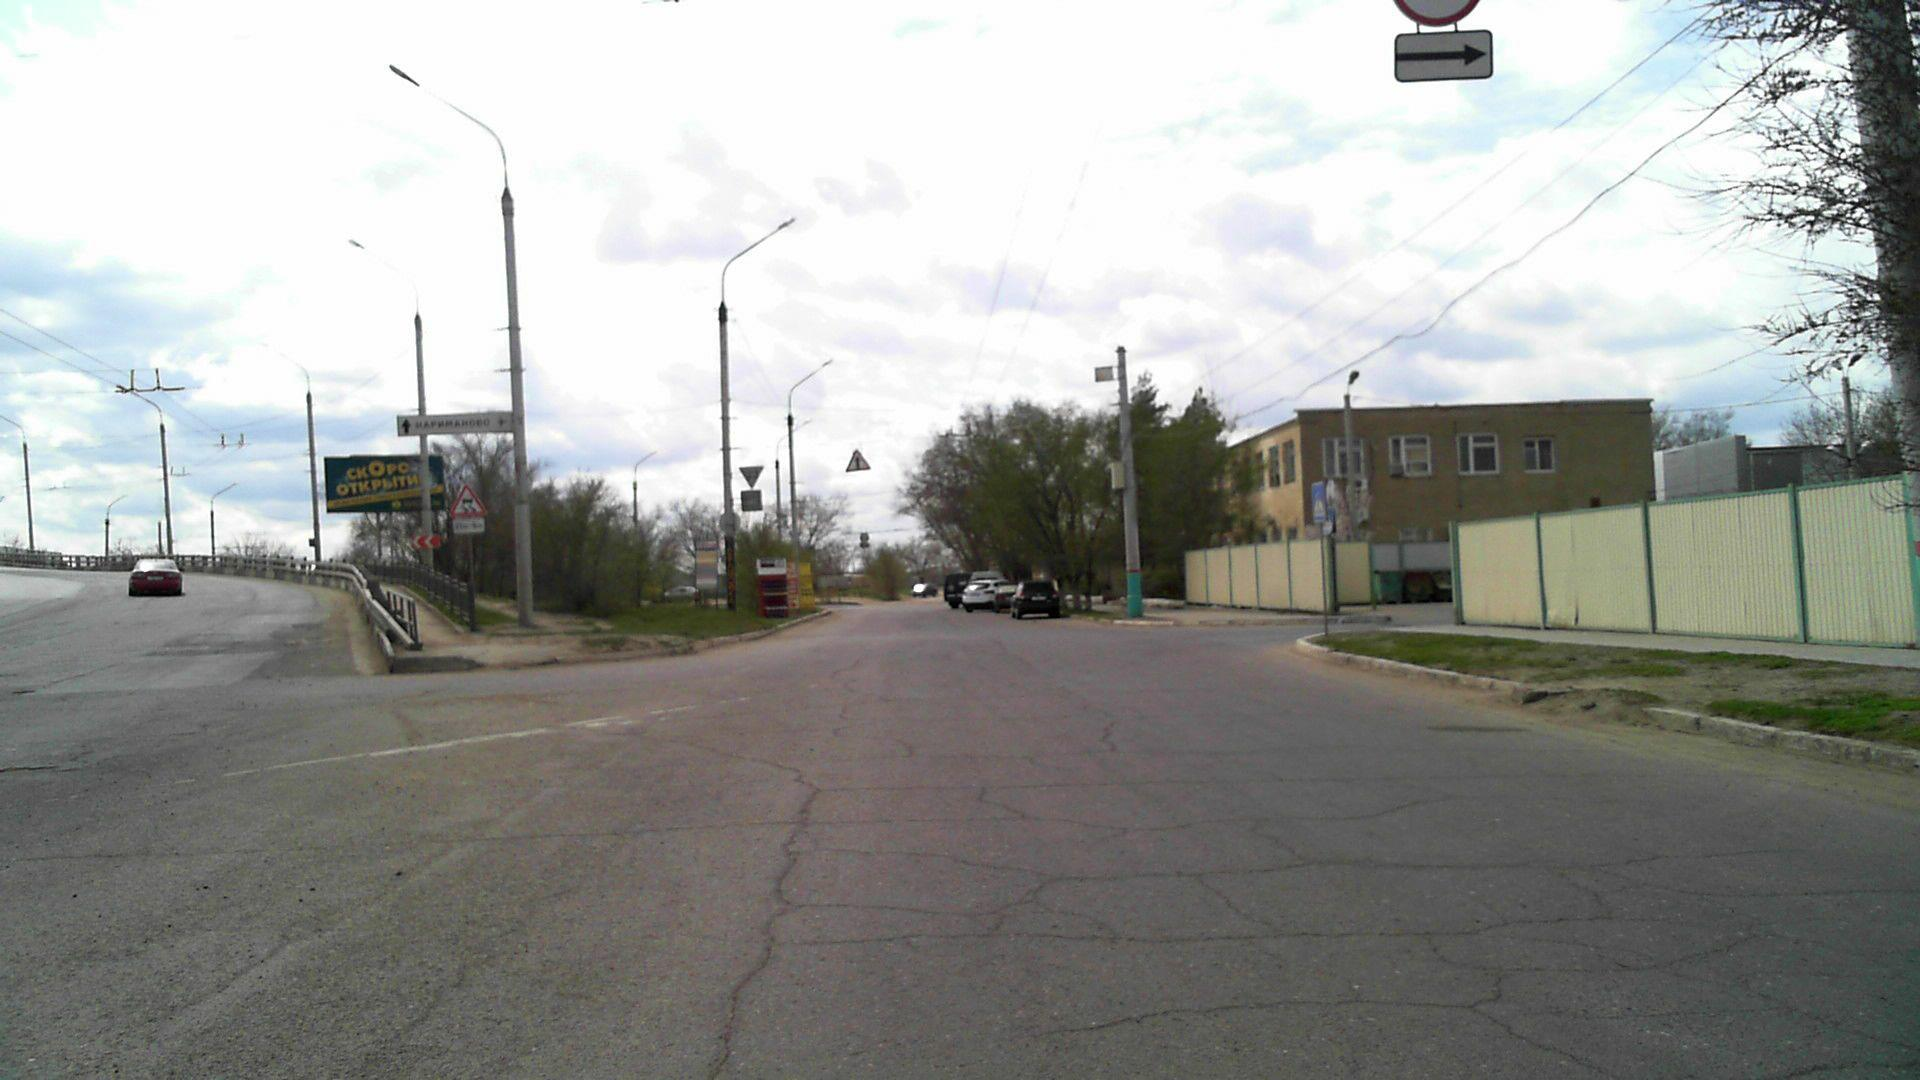1_15: (448, 485, 483, 516)
1_34_2: (411, 531, 442, 549)
2_3_1: (845, 448, 872, 475)
3_2: (1393, 0, 1484, 29)
5_19_1: (1311, 483, 1325, 521)
8_3_1: (1393, 29, 1497, 84)
8_5_4: (451, 517, 487, 533)
